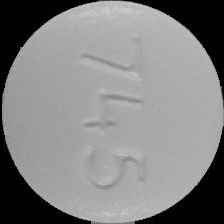65162-745: (0, 0, 224, 224)
